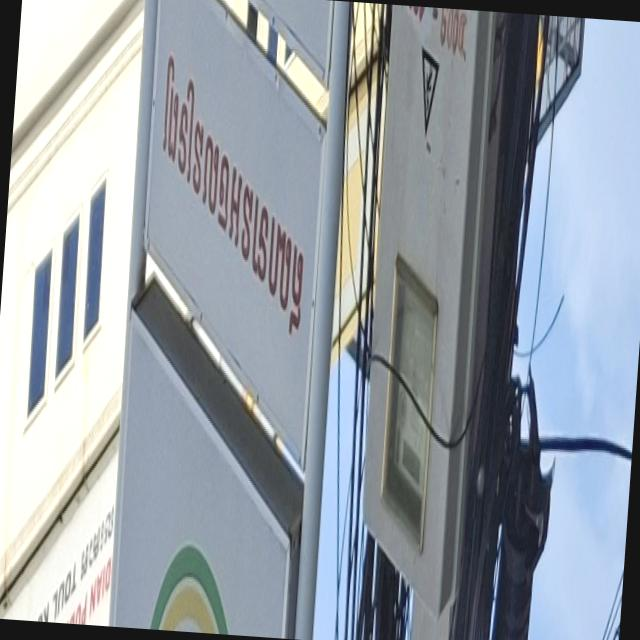893: (75, 471, 116, 603)
Yolov11kh: (145, 15, 315, 403)
